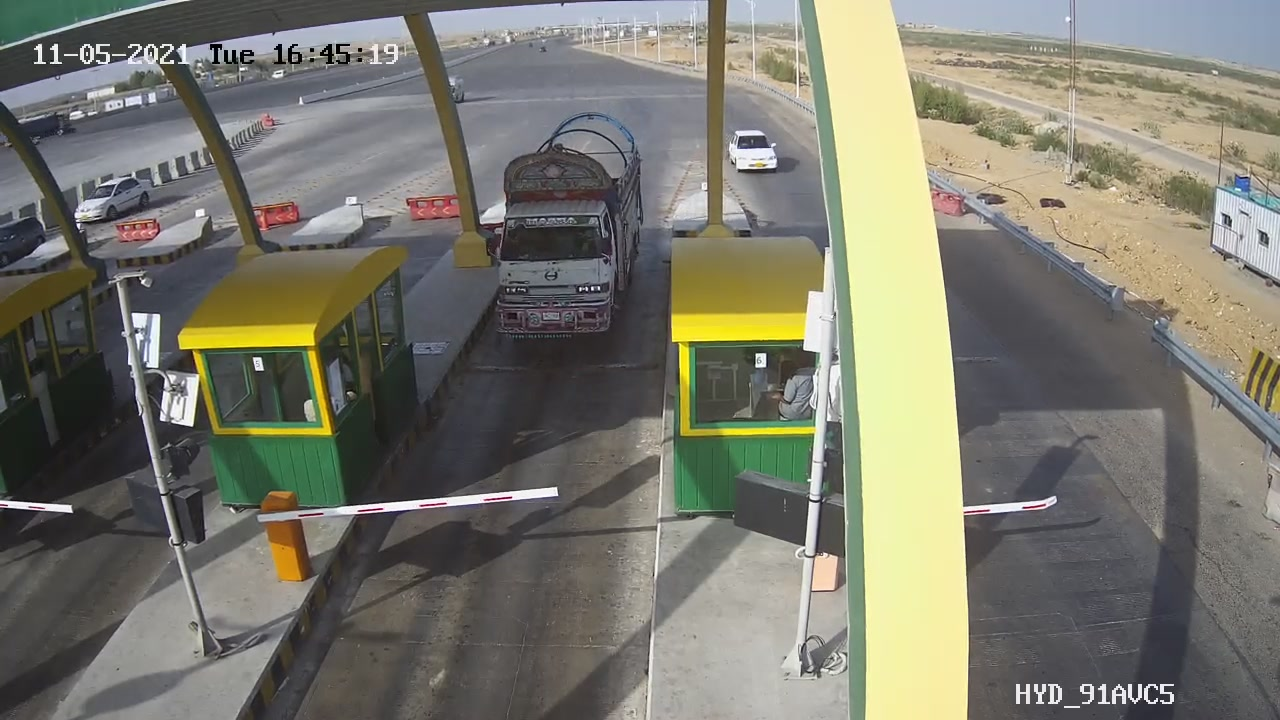F5: (468, 95, 670, 369)
